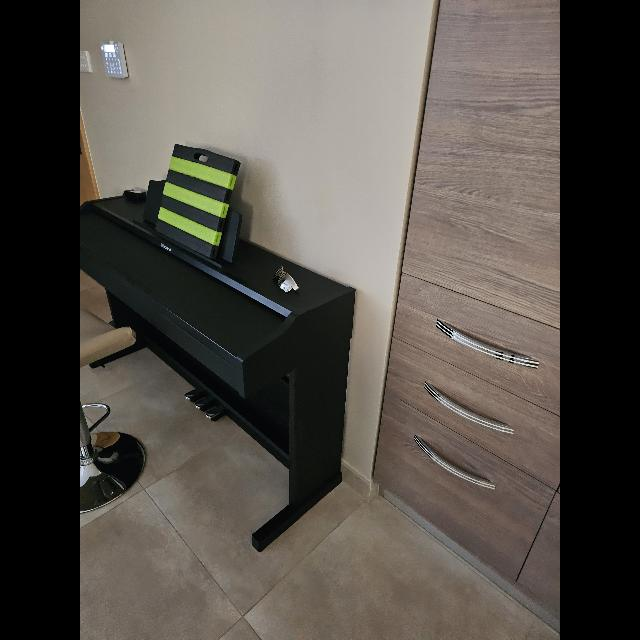Sunglasses: (273, 266, 299, 292)
